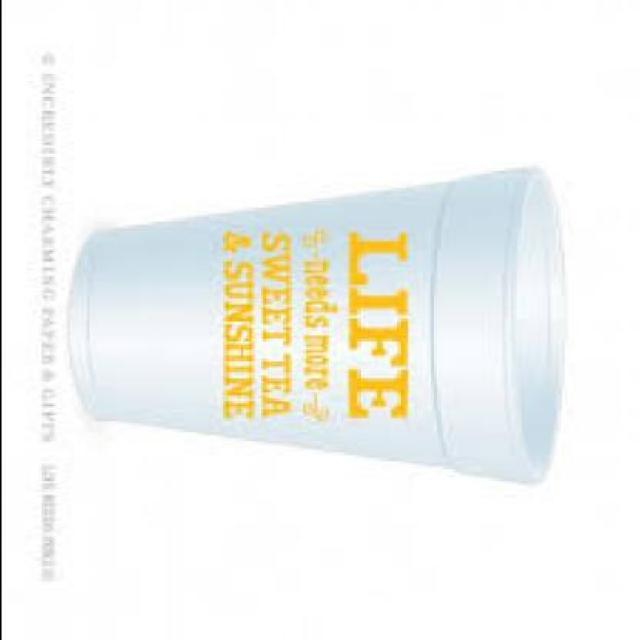PAPER: (68, 167, 566, 478)
